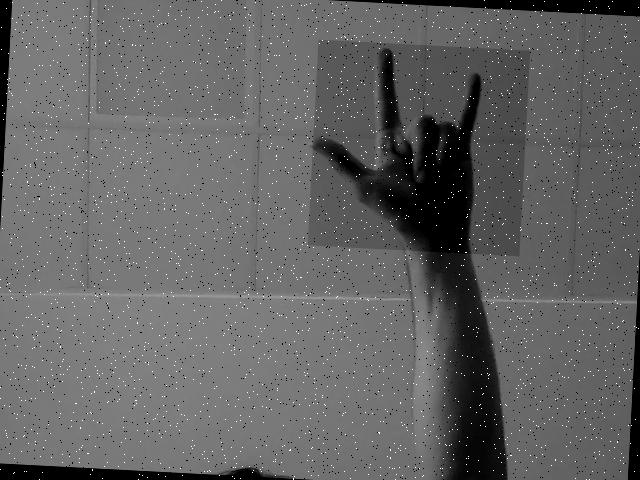I_Love_You: (308, 40, 530, 256)
